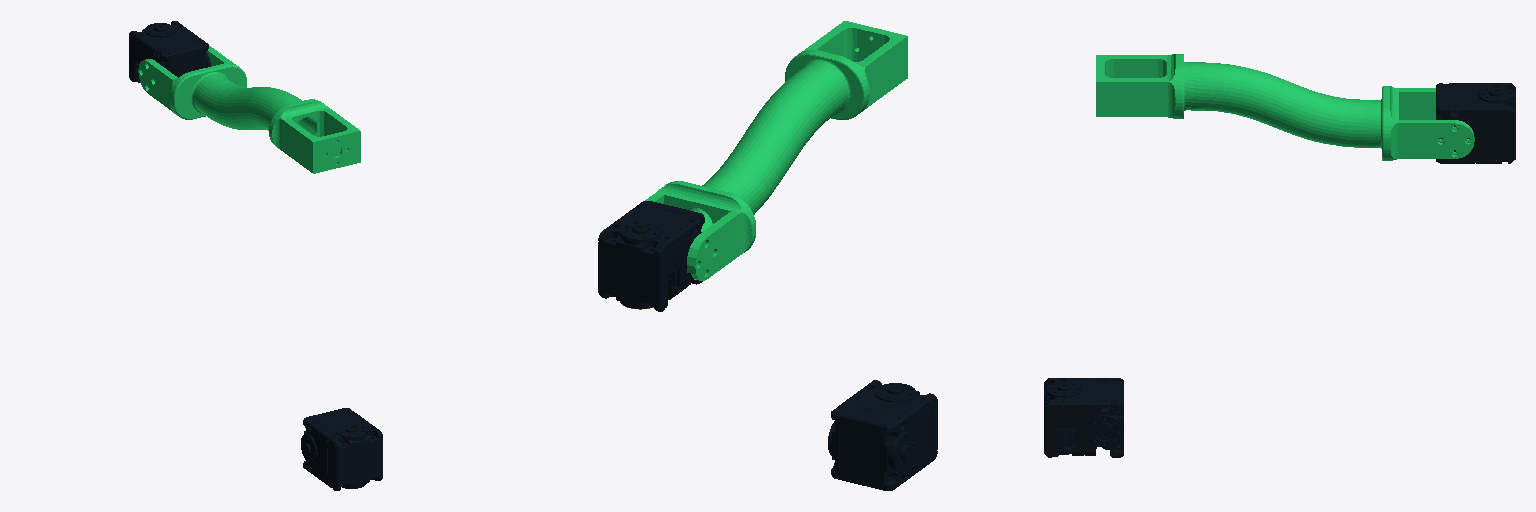
robot.urdf — manipulator:
<?xml version="1.0" encoding="utf-8"?>
<!-- This URDF was automatically created by SolidWorks to URDF Exporter! Originally created by [author] ([email redacted]) 
     Commit Version: 1.6.0-4-g7f85cfe  Build Version: 1.6.7995.38578
     For more information, please see http://wiki.ros.org/sw_urdf_exporter -->
<robot
  name="manipulator">
  <!-- Fix robot to Gazebo world -->
    <link name="world" />
    <joint name="world-base_link-fixed" type="fixed">
        <parent link="world" />
        <child link="base_link" />
        <origin rpy="0.0 0.0 0.0" xyz="0.0 0.0 0.0" />
    </joint>
  
  <link
    name="base_link">
    <inertial>
      <origin
        xyz="5.34102915090199E-06 0.00149611119634719 0.027324411040906"
        rpy="0 0 0" />
      <mass
        value="0.399055600639488" />
      <inertia
        ixx="0.101795155"
        ixy="-0.0000106"
        ixz="-0.000004255"
        iyy="0.1049705"
        iyz="-0.0025166"
        izz="0.113806134" />
    </inertial>
    <visual>
      <origin
        xyz="0 0 0"
        rpy="0 0 0" />
      <geometry>
        <mesh
          filename="package://archie_description/meshes/base_link.STL" />
      </geometry>
      <material
        name="">
        <color
          rgba="0.0549 0.4 0.3333 1.0"/>
      </material>
    </visual>
    <collision>
      <origin
        xyz="0 0 0"
        rpy="0 0 0" />
      <geometry>
        <mesh
          filename="package://archie_description/meshes/base_link.STL" />
      </geometry>
    </collision>
  </link>
  <link
    name="link_1">
    <inertial>
      <origin
        xyz="0.000495971250250975 -0.0119998499605218 0.0192958783777655"
        rpy="0 0 0" />
      <mass
        value="0.102" />
      <inertia
        ixx="0.004708"
        ixy="0.0000362"
        ixz="-0.0000863"
        iyy="0.0034761"
        iyz="-0.0013745"
        izz="0.0024097" />
    </inertial>
    <visual>
      <origin
        xyz="0 0 0"
        rpy="0 0 0" />
      <geometry>
        <mesh
          filename="package://archie_description/meshes/link_1.STL" />
      </geometry>
      <material
        name="">
        <color
          rgba="0.09019 0.12549 0.164706 1.0"/>
      </material>
    </visual>
    <collision>
      <origin
        xyz="0 0 0"
        rpy="0 0 0" />
      <geometry>
        <mesh
          filename="package://archie_description/meshes/link_1.STL" />
      </geometry>
    </collision>
  </link>
  <joint
    name="joint_1"
    type="revolute">
    <origin
      xyz="0 0 0.07"
      rpy="0 0 3.14159265358979" />
    <parent
      link="base_link" />
    <child
      link="link_1" />
    <axis
      xyz="0 0 1" />
    <limit
      lower="-1.57"
      upper="1.57"
      effort="300"
      velocity="3" />
  </joint>
  <link
    name="link_2">
    <inertial>
      <origin
        xyz="-0.00375223885247785 0.0986651693444381 3.09623365033344E-07"
        rpy="0 0 0" />
      <mass
        value="0.102283747087815" />
      <inertia
        ixx="0.125060728"
        ixy="0.017650428"
        ixz="0.000000038"
        iyy="0.0057453"
        iyz="-0.00000199"
        izz="0.1262878" />
    </inertial>
    <visual>
      <origin
        xyz="-0.004 0.0012 0"
        rpy="0 0 0" />
      <geometry>
        <mesh
          filename="package://archie_description/meshes/link_2.STL" />
      </geometry>
      <material
        name="">
        <color
          rgba="0.1804 0.8 0.4431 1.0"/>
      </material>
    </visual>
    <collision>
      <origin
        xyz="-0.004 0.0012 0"
        rpy="0 0 0" />
      <geometry>
        <mesh
          filename="package://archie_description/meshes/link_2.STL" />
      </geometry>
    </collision>
  </link>
  <joint
    name="joint_2"
    type="revolute">
    <origin
      xyz="0 -0.024 0.0188"
      rpy="1.5707963267949 0 -1.5707963267949" />
    <parent
      link="link_1" />
    <child
      link="link_2" />
    <axis
      xyz="0 0 1" />
    <limit
      lower="-0.78"
      upper="0.78"
      effort="300"
      velocity="3" />
  </joint>
  <link
    name="link_3">
    <inertial>
      <origin
        xyz="0.07998503185917 0.000495971402698678 0.000495878377765527"
        rpy="0 0 0" />
      <mass
        value="0.102" />
      <inertia
        ixx="0.004708"
        ixy="0.0000362"
        ixz="-0.0000863"
        iyy="0.0034761"
        iyz="-0.0013745"
        izz="0.0024097" />
    </inertial>
    <visual>
      <origin
        xyz="0.006 0 0"
        rpy="0 0 0" />
      <geometry>
        <mesh
          filename="package://archie_description/meshes/link_3.STL" />
      </geometry>
      <material
        name="">
        <color
          rgba="0.09019 0.12549 0.164706 1.0"/>
      </material>
    </visual>
    <collision>
      <origin
        xyz="0.006 0 0"
        rpy="0 0 0" />
      <geometry>
        <mesh
          filename="package://archie_description/meshes/link_3.STL" />
      </geometry>
    </collision>
  </link>
  <joint
    name="joint_3"
    type="revolute">
    <origin
      xyz="-0.024 0.195 0"
      rpy="0 0 1.5707963267949" />
    <parent
      link="link_2" />
    <child
      link="link_3" />
    <axis
      xyz="0 0 1" />
    <limit
      lower="-1.15"
      upper="2"
      effort="300"
      velocity="3" />
  </joint>
  <link
    name="link_4">
    <inertial>
      <origin
        xyz="-0.0140962967782675 4.33165647224752E-07 0.105115025906125"
        rpy="0 0 0" />
      <mass
        value="0.105070462984836" />
      <inertia
        ixx="0.1573144"
        ixy="0.0195671"
        ixz="0.0000000040"
        iyy="0.0051205"
        iyz="0.0000001350"
        izz="0.1589789"/>
    </inertial>
    <visual>
      <origin
        xyz="0 0 0"
        rpy="0 0 0" />
      <geometry>
        <mesh
          filename="package://archie_description/meshes/link_4.STL" />
      </geometry>
      <material
        name="">
        <color
          rgba="0.1804 0.8 0.4431 1.0"/>
      </material>
    </visual>
    <collision>
      <origin
        xyz="0 0 0"
        rpy="0 0 0" />
      <geometry>
        <mesh
          filename="package://archie_description/meshes/link_4.STL" />
      </geometry>
    </collision>
  </link>
  <joint
    name="joint_4"
    type="revolute">
    <origin
      xyz="0.0200000000000001 -0.02 0"
      rpy="1.5707963267949 0 0" />
    <parent
      link="link_3" />
    <child
      link="link_4" />
    <axis
      xyz="0 0 1" />
    <limit
      lower="-3.14"
      upper="3.14"
      effort="200"
      velocity="3" />
  </joint>
  <link
    name="link_5">
    <inertial>
      <origin
        xyz="-0.00570412111171636 -0.00950015024510067 0.000495971250250971"
        rpy="0 0 0" />
      <mass
        value="0.0982" />
      <inertia
        ixx="0.004708"
        ixy="0.0000362"
        ixz="-0.0000863"
        iyy="0.0034761"
        iyz="-0.0013745"
        izz="0.0024097" />
    </inertial>
    <visual>
      <origin
        xyz="0.006 -0.0025 0"
        rpy="0 0 0" />
      <geometry>
        <mesh
          filename="package://archie_description/meshes/link_5.STL" />
      </geometry>
      <material
        name="">
        <color
          rgba="0.09019 0.12549 0.164706 1.0"/>
      </material>
    </visual>
    <collision>
      <origin
        xyz="0.006 -0.0025 0"
        rpy="0 0 0" />
      <geometry>
        <mesh
          filename="package://archie_description/meshes/link_5.STL" />
      </geometry>
    </collision>
  </link>
  <joint
    name="joint_5"
    type="revolute">
    <origin
      xyz="-0.02562 0 0.2075"
      rpy="-1.5707963267949 0 0" />
    <parent
      link="link_4" />
    <child
      link="link_5" />
    <axis
      xyz="0 0 1" />
    <limit
      lower="-1.15"
      upper="2"
      effort="200"
      velocity="3" />
  </joint>
  <link
    name="link_6">
    <inertial>
      <origin
        xyz="0.00150005999207131 2.13388833428252E-08 0.0547308096922248"
        rpy="0 0 0" />
      <mass
        value="0.000147831569305485" />
      <inertia
        ixx="3.66048153630127E-09"
        ixy="1.57772181044196E-25"
        ixz="1.17223439029209E-23"
        iyy="3.66048153630127E-09"
        iyz="8.32319653746676E-25"
        izz="7.31480342388148E-09" />
    </inertial>
    <visual>
      <origin
        xyz="0 0 0"
        rpy="0 0 0" />
      <geometry>
        <mesh
          filename="package://archie_description/meshes/link_6.STL" />
      </geometry>
      <material
        name="">
        <color
          rgba="0.729411764705882 0.356862745098039 0.0235294117647059 1" />
      </material>
    </visual>
    <collision>
      <origin
        xyz="0 0 0"
        rpy="0 0 0" />
      <geometry>
        <mesh
          filename="package://archie_description/meshes/link_6.STL" />
      </geometry>
    </collision>
  </link>
  <joint
    name="joint_6"
    type="revolute">
    <origin
      xyz="-0.02 -0.024 0"
      rpy="1.5707963267949 0 -1.5707963267949" />
    <parent
      link="link_5" />
    <child
      link="link_6" />
    <axis
      xyz="0 0 1" />
    <limit
      lower="-3.14"
      upper="3.14"
      effort="200"
      velocity="3" />
  </joint>

   <!-- transmission list -->
  <transmission name="link_1_trans">
    <type>transmission_interface/SimpleTransmission</type>
    <joint name="joint_1">
      <hardwareInterface>hardware_interface/PositionJointInterface</hardwareInterface>
    </joint>
    <actuator name="link_1_motor">
      <hardwareInterface>hardware_interface/PositionJointInterface</hardwareInterface>
      <mechanicalReduction>1</mechanicalReduction>
    </actuator>
  </transmission>
  <transmission name="link_2_trans">
    <type>transmission_interface/SimpleTransmission</type>
    <joint name="joint_2">
      <hardwareInterface>hardware_interface/PositionJointInterface</hardwareInterface>
    </joint>
    <actuator name="link_2_motor">
      <hardwareInterface>hardware_interface/PositionJointInterface</hardwareInterface>
      <mechanicalReduction>1</mechanicalReduction>
    </actuator>
  </transmission>
  <transmission name="link_3_trans">
    <type>transmission_interface/SimpleTransmission</type>
    <joint name="joint_3">
      <hardwareInterface>hardware_interface/PositionJointInterface</hardwareInterface>
    </joint>
    <actuator name="link_3_motor">
      <hardwareInterface>hardware_interface/PositionJointInterface</hardwareInterface>
      <mechanicalReduction>1</mechanicalReduction>
    </actuator>
  </transmission>
  <transmission name="link_4_trans">
    <type>transmission_interface/SimpleTransmission</type>
    <joint name="joint_4">
      <hardwareInterface>hardware_interface/PositionJointInterface</hardwareInterface>
    </joint>
    <actuator name="link_4_motor">
      <hardwareInterface>hardware_interface/PositionJointInterface</hardwareInterface>
      <mechanicalReduction>1</mechanicalReduction>
    </actuator>
  </transmission>
  <transmission name="link_5_trans">
    <type>transmission_interface/SimpleTransmission</type>
    <joint name="joint_5">
      <hardwareInterface>hardware_interface/PositionJointInterface</hardwareInterface>
    </joint>
    <actuator name="link_5_motor">
      <hardwareInterface>hardware_interface/PositionJointInterface</hardwareInterface>
      <mechanicalReduction>1</mechanicalReduction>
    </actuator>
  </transmission>
  <transmission name="link_6_trans">
    <type>transmission_interface/SimpleTransmission</type>
    <joint name="joint_6">
      <hardwareInterface>hardware_interface/PositionJointInterface</hardwareInterface>
    </joint>
    <actuator name="link_6_motor">
      <hardwareInterface>hardware_interface/PositionJointInterface</hardwareInterface>
      <mechanicalReduction>1</mechanicalReduction>
    </actuator>
  </transmission>
  <!-- end of transmission list -->

  
  <!-- Gazebo-specific link properties -->
  <gazebo reference="link_1">
    <selfCollide>true</selfCollide>
    <material>Gazebo/Black</material>
  </gazebo>
  <gazebo reference="link_2">
    <selfCollide>true</selfCollide>
    <material>Gazebo/Orange</material>
  </gazebo>
  <gazebo reference="link_3">
    <selfCollide>true</selfCollide>
    <material>Gazebo/Black</material>
  </gazebo>
  <gazebo reference="link_4">
    <selfCollide>true</selfCollide>
    <material>Gazebo/Orange</material>
  </gazebo>
  <gazebo reference="link_5">
    <selfCollide>true</selfCollide>
    <material>Gazebo/Black</material>
  </gazebo>
  <gazebo reference="link_6">
    <selfCollide>true</selfCollide>
  </gazebo>
  <!-- ros_control plugin -->
  <gazebo>
    <plugin filename="libgazebo_ros_control.so" name="control">
      <robotNamespace>/</robotNamespace>
      <robotSimType>gazebo_ros_control/DefaultRobotHWSim</robotSimType>
    </plugin>
  </gazebo>
</robot>

--- Facts derived from the render (not from the file) ---
Views: 3 orthographic renders of the robot side by side, from view 1: azimuth 30°, elevation 25°; view 2: azimuth 150°, elevation 25°; view 3: azimuth 270°, elevation 25°.
Model manipulator with 8 links and 7 joints (6 revolute, 1 fixed), rooted at world, posed all joints at 0.
Links seen in each view (by area): view 1: link_4, link_1, link_5; view 2: link_4, link_1, link_5; view 3: link_4, link_1, link_5.
Link boxes in pixels (x1=…): link_4: x1=138, y1=46, x2=360, y2=173; link_1: x1=301, y1=408, x2=382, y2=490; link_5: x1=129, y1=21, x2=210, y2=82; link_4: x1=645, y1=21, x2=907, y2=280; link_1: x1=828, y1=380, x2=937, y2=490; link_5: x1=598, y1=201, x2=704, y2=311; link_4: x1=1096, y1=54, x2=1474, y2=160; link_1: x1=1044, y1=378, x2=1123, y2=457; link_5: x1=1436, y1=83, x2=1515, y2=163.
Bounding box of the posed robot: 0.056 × 0.274 × 0.2493 m (x, y, z).
4 mesh visuals loaded from 7 distinct referenced files (4 binary STL); not drawn: 3 (reference not matched to a file when rendering).
